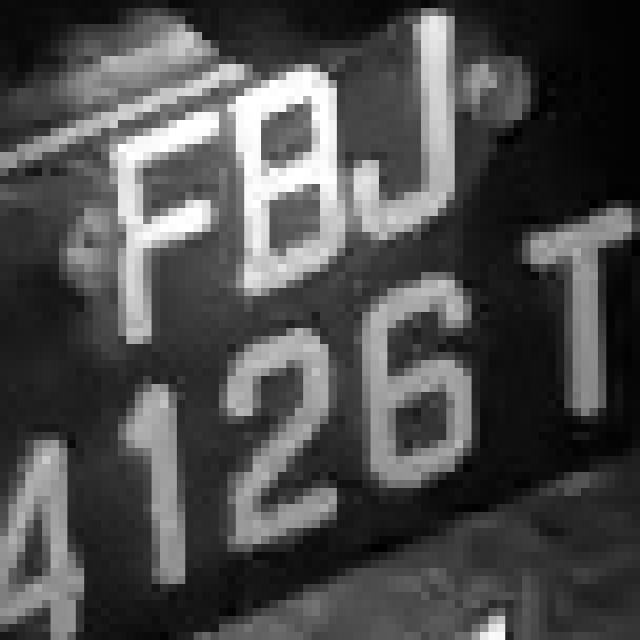1: (118, 352, 210, 608)
2: (194, 320, 345, 568)
4: (0, 5, 2, 8)
6: (354, 264, 488, 496)
B: (202, 48, 362, 288)
F: (84, 88, 228, 328)
J: (354, 0, 488, 240)
T: (513, 184, 640, 464)
